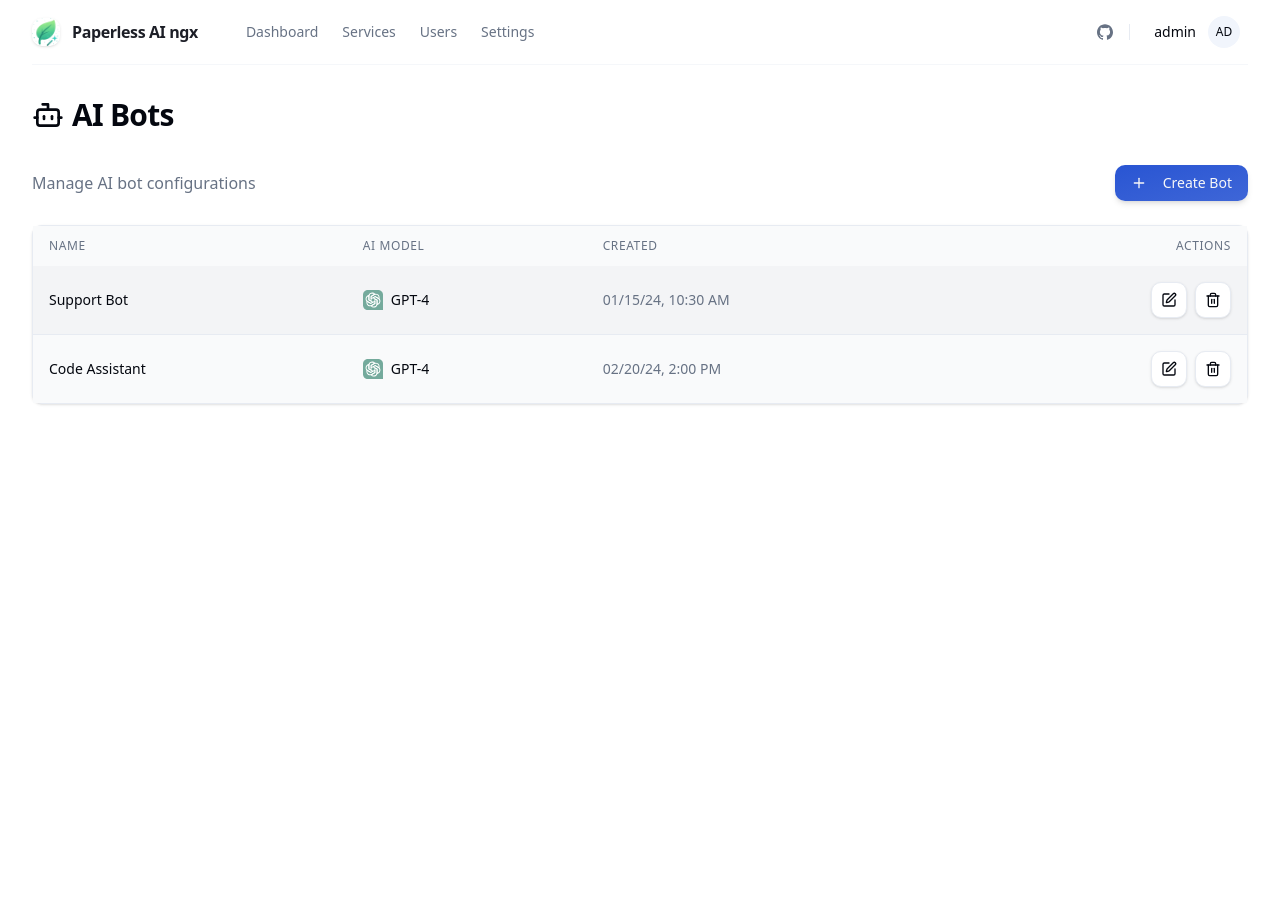
AiBotsPage › opens delete dialog when clicking delete button
The width and height of the screenshot is (1280, 900).
Click the button with test id "delete-bot-bot-2" at (1213, 369), box 1195,351 -> 1231,387
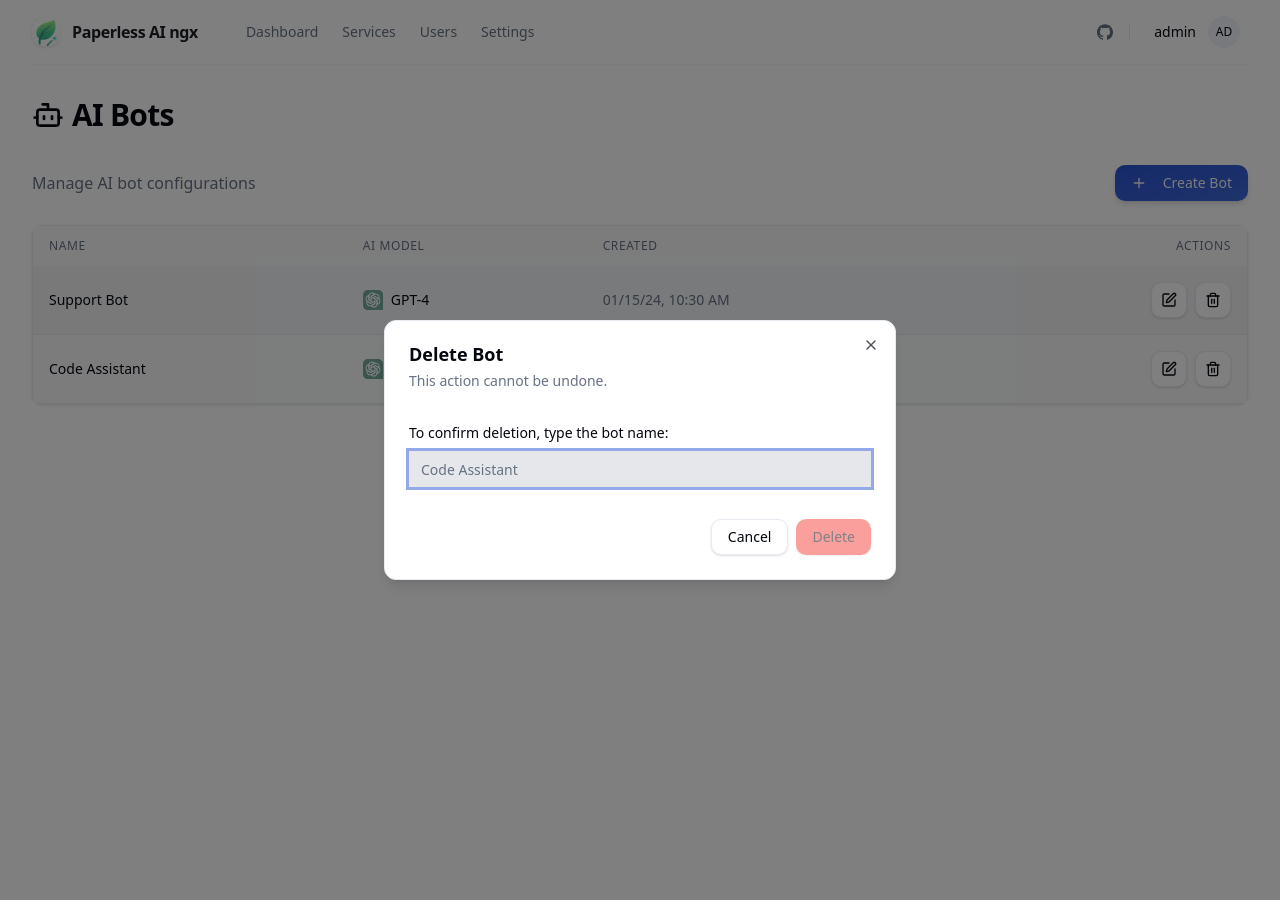
Now the dialog is shown, box 384,320 -> 896,580
